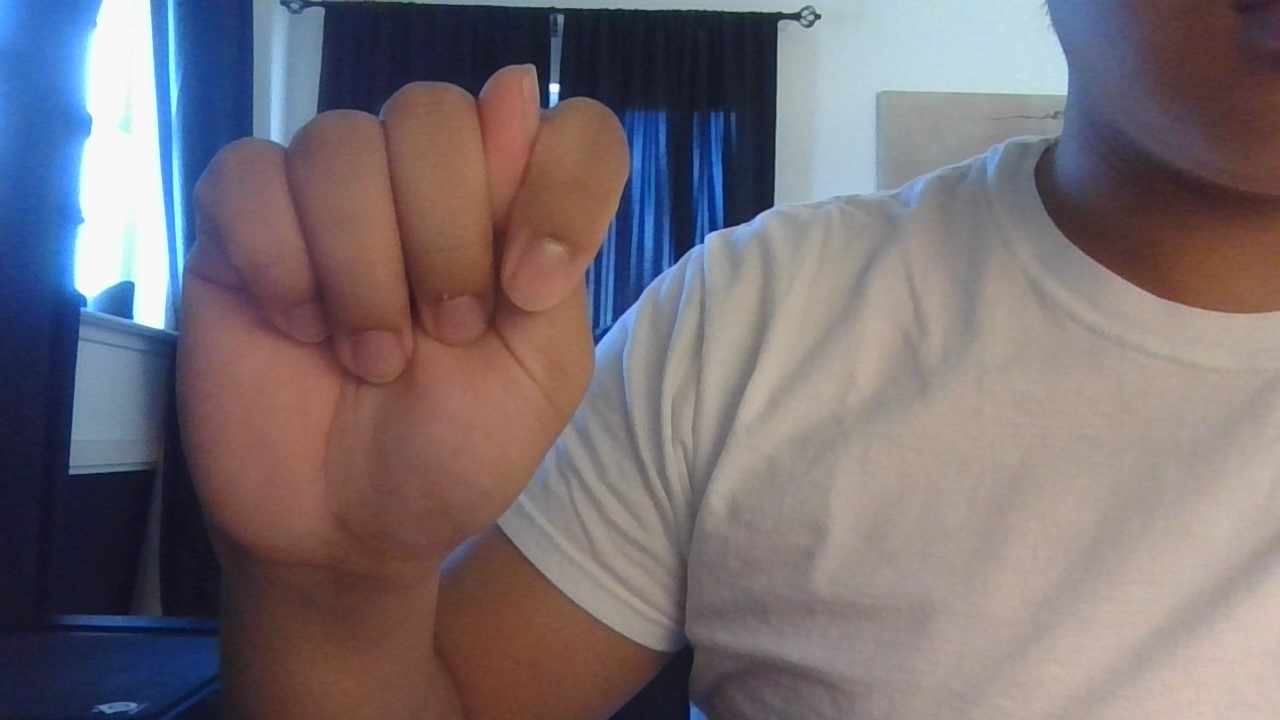t: (152, 49, 696, 589)
